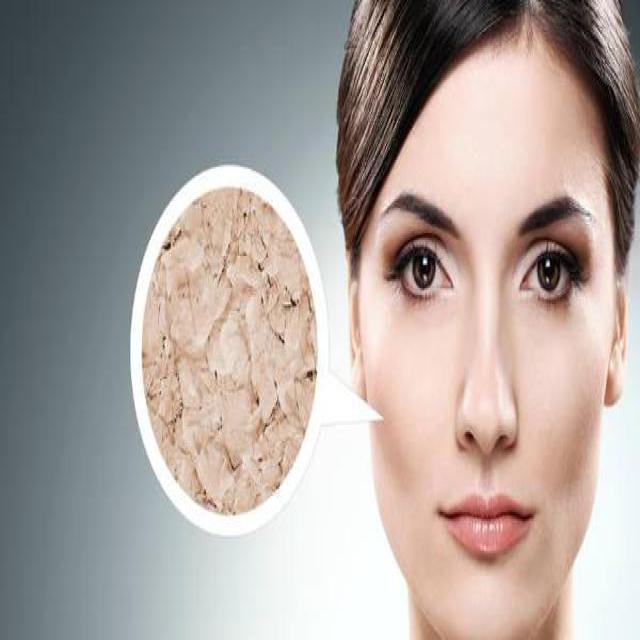dry: (142, 190, 318, 515)
